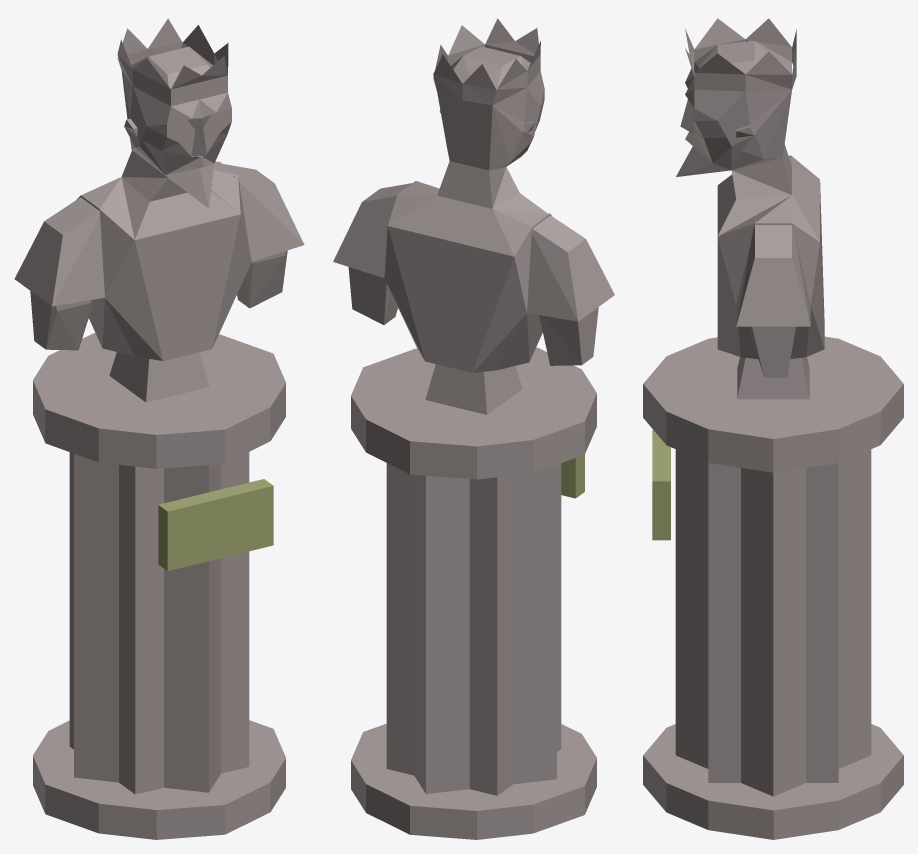
The picture shows the model from 3 angles, left to right: view 1: azimuth 30°, elevation 25°; view 2: azimuth 150°, elevation 25°; view 3: azimuth 270°, elevation 25°; orthographic projection. The views are drawn at different scales.
Bounding box in the file's own units: 62 × 178 × 56.
1 material, 1 textured.
